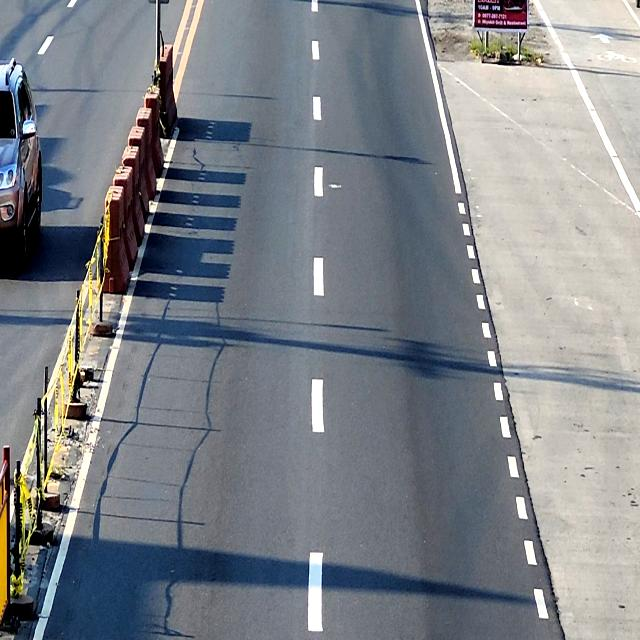Car: (0, 59, 43, 263)
